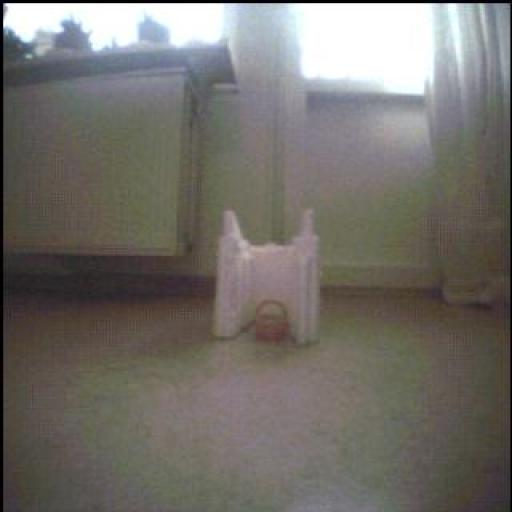Basket: (256, 300, 291, 342)
